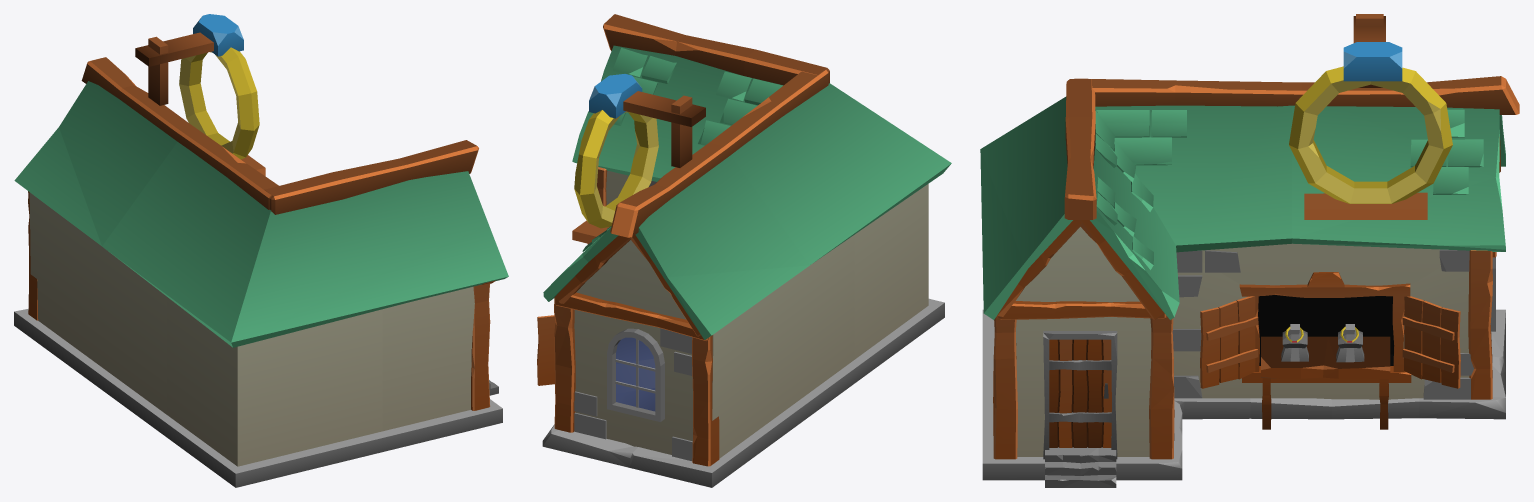
File: Jeweler_01.fbx
The picture shows the model from 3 angles, left to right: view 1: azimuth 30°, elevation 25°; view 2: azimuth 150°, elevation 25°; view 3: azimuth 270°, elevation 25°; orthographic projection. The views are drawn at different scales.
Parts seen in each view (by area): view 1: Cube.014; view 2: Cube.014; view 3: Cube.014.
Boxes of the visible parts, bbox=[...] form: Cube.014: bbox=[14, 14, 508, 487]; Cube.014: bbox=[537, 14, 951, 487]; Cube.014: bbox=[980, 14, 1519, 487].
Bounding box in the file's own units: 7.7 × 7.64 × 10.31.
